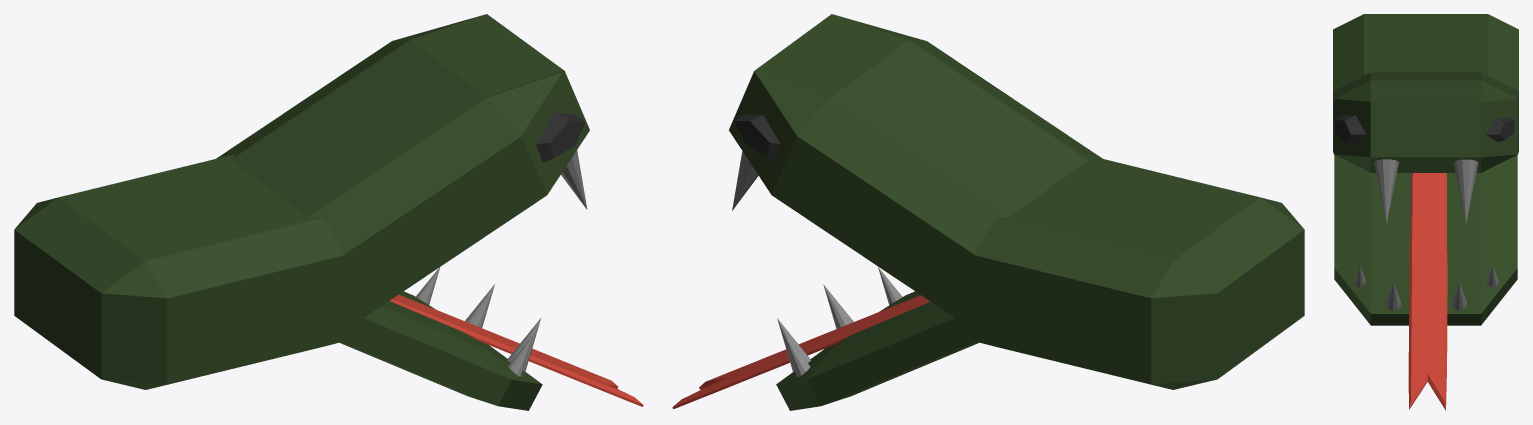
Rendered from SnakeHeadPortal.fbx.
3 renders of one model, left to right at view 1: azimuth 30°, elevation 25°; view 2: azimuth 150°, elevation 25°; view 3: azimuth 270°, elevation 25°, orthographic. The views are drawn at different scales.
Visible parts, largest first — view 1: Upper_Jaw, Armature, Lower_Jaw, Cap_2, Snake_Eye_2, Rounding, Fang_2; view 2: Upper_Jaw, Armature, Lower_Jaw, Cap_2, Snake_Eye, Rounding, Fang; view 3: Lower_Jaw, Upper_Jaw, Armature, Cap_2, Rounding, Fang_2, Fang, Snake_Eye_2, Snake_Eye, Tooth, Tooth_2.
Part boxes in pixels (box(x1,y1,x2,y2)): Upper_Jaw: box(216, 14, 589, 330); Armature: box(14, 154, 344, 389); Lower_Jaw: box(339, 291, 542, 410); Cap_2: box(392, 294, 630, 395); Snake_Eye_2: box(536, 112, 585, 162); Rounding: box(389, 299, 642, 404); Fang_2: box(561, 150, 587, 209); Upper_Jaw: box(729, 14, 1102, 330); Armature: box(974, 154, 1304, 389); Lower_Jaw: box(776, 291, 978, 410); Cap_2: box(683, 295, 927, 398); Snake_Eye: box(735, 114, 780, 159); Rounding: box(673, 300, 930, 406); Fang: box(732, 151, 758, 210); Lower_Jaw: box(1334, 155, 1517, 325); Upper_Jaw: box(1333, 72, 1518, 172); Armature: box(1333, 14, 1518, 152); Cap_2: box(1411, 173, 1445, 400); Rounding: box(1408, 173, 1447, 409); Fang_2: box(1374, 159, 1398, 224); Fang: box(1453, 159, 1478, 224); Snake_Eye_2: box(1335, 115, 1365, 144); Snake_Eye: box(1486, 118, 1514, 141); Tooth: box(1451, 282, 1466, 310); Tooth_2: box(1385, 282, 1400, 310).
Bounding box in the file's own units: 566 × 360 × 223.
